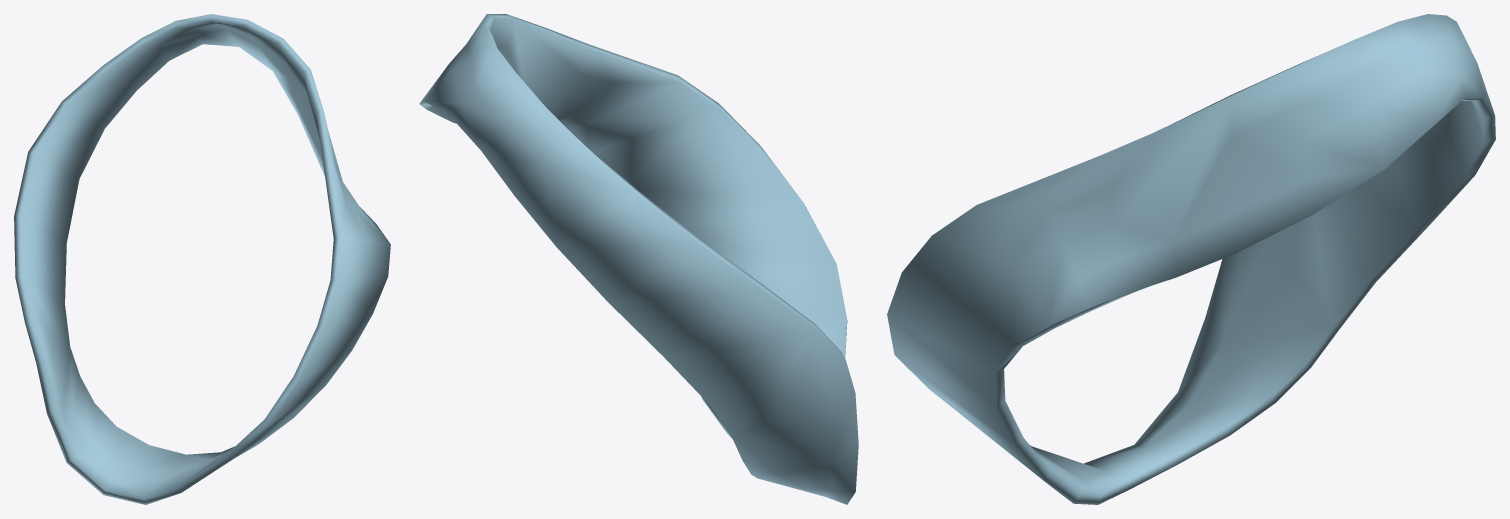
The model's file is articulacoes-articular-capsule-of-superior-tibiofibular-joint-l.glb.
The picture shows the model from 3 angles, left to right: view 1: azimuth 30°, elevation 25°; view 2: azimuth 150°, elevation 25°; view 3: azimuth 270°, elevation 25°; orthographic projection. The views are drawn at different scales.
Visible parts, largest first — view 1: Articular capsule of superior tibiofibular joint.l; view 2: Articular capsule of superior tibiofibular joint.l; view 3: Articular capsule of superior tibiofibular joint.l.
Boxes of the visible parts, x1,y1,x2,y2 form: Articular capsule of superior tibiofibular joint.l: (14,14,390,504); Articular capsule of superior tibiofibular joint.l: (419,14,858,504); Articular capsule of superior tibiofibular joint.l: (887,14,1495,504).
Bounding box in the file's own units: 0.0224 × 0.027 × 0.0257.
